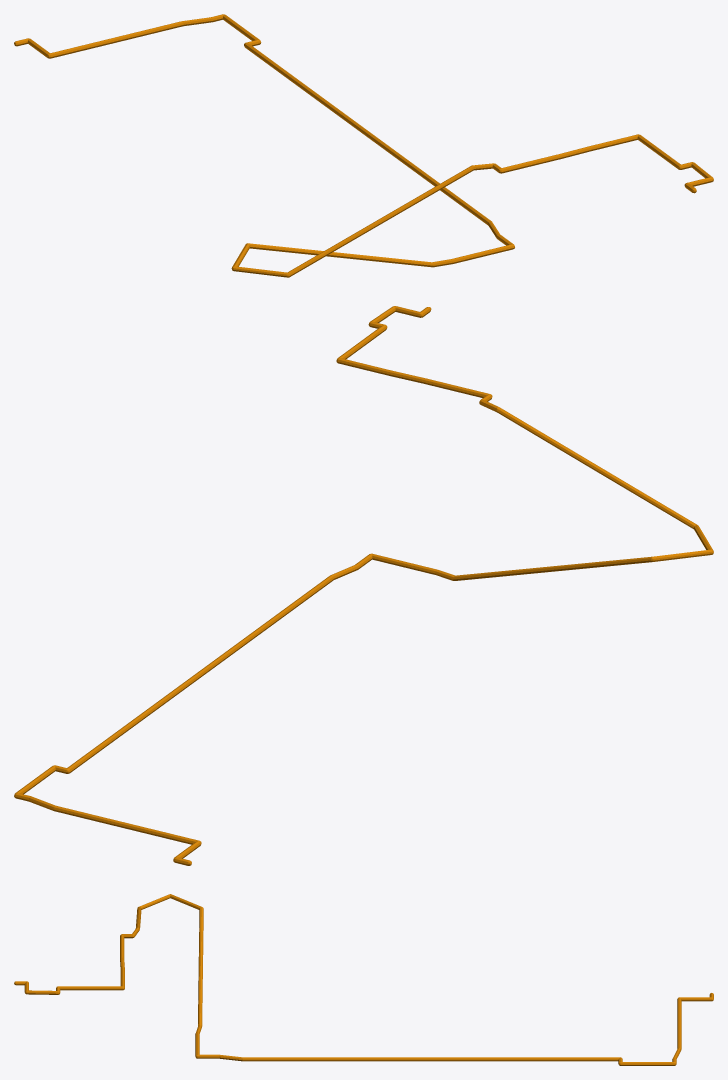
3 views of the same model, one above another, from view 1: azimuth 30°, elevation 25°; view 2: azimuth 150°, elevation 25°; view 3: azimuth 270°, elevation 25° (orthographic). The views are drawn at different scales.
Size of the model in its own units: 1619 by 520 by 3245.
